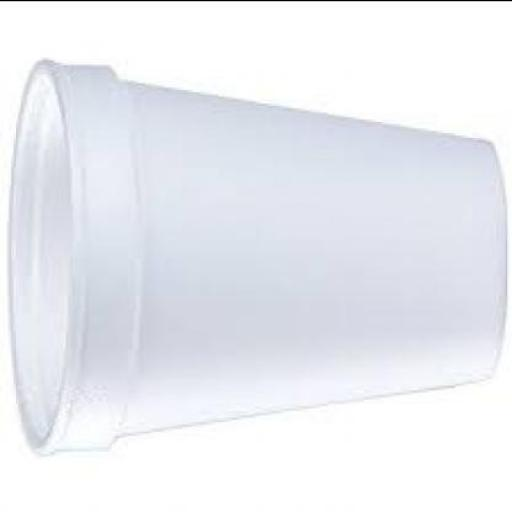paper: (8, 59, 510, 460)
